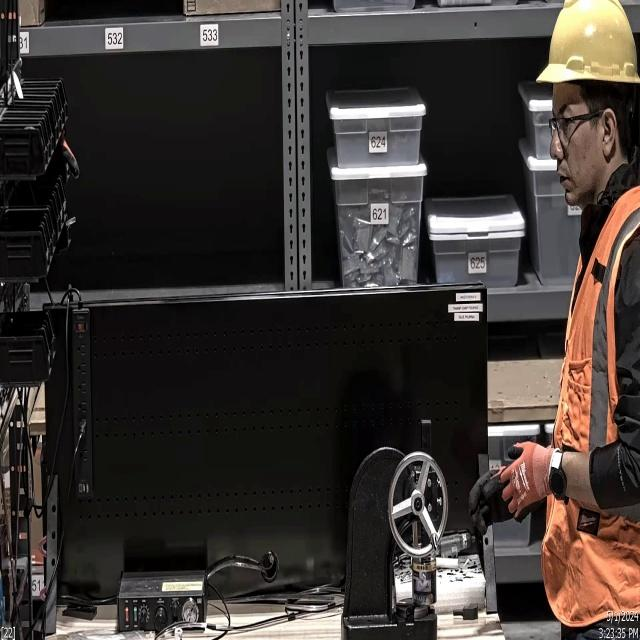gloves: (492, 439, 552, 523)
